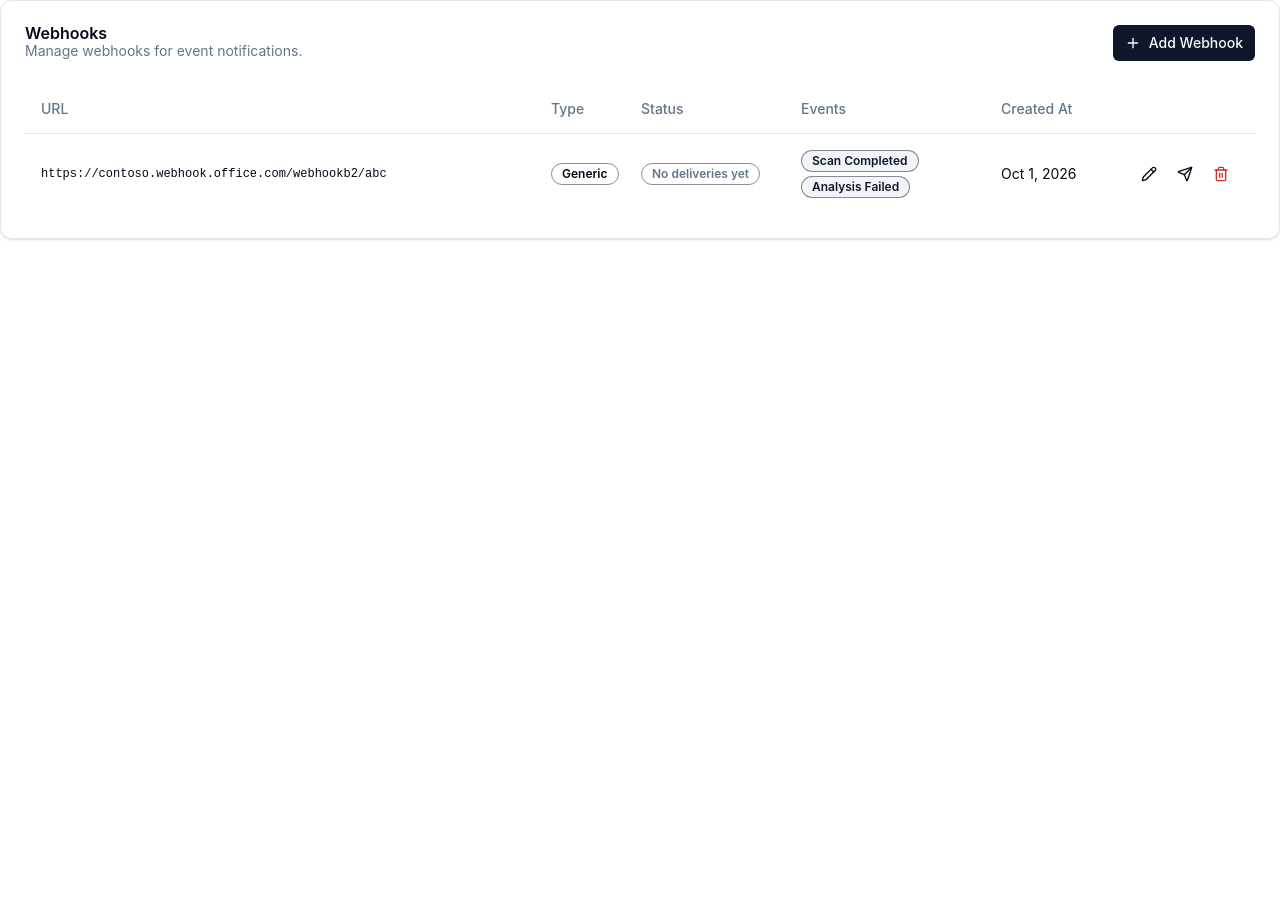
Test: WebhookManager › editing a webhook › shows the stored JSON opt-out of a Teams webhook ticked
Click the button named "Edit webhook".
click(1149, 174)  # box [1131,154,1167,194]
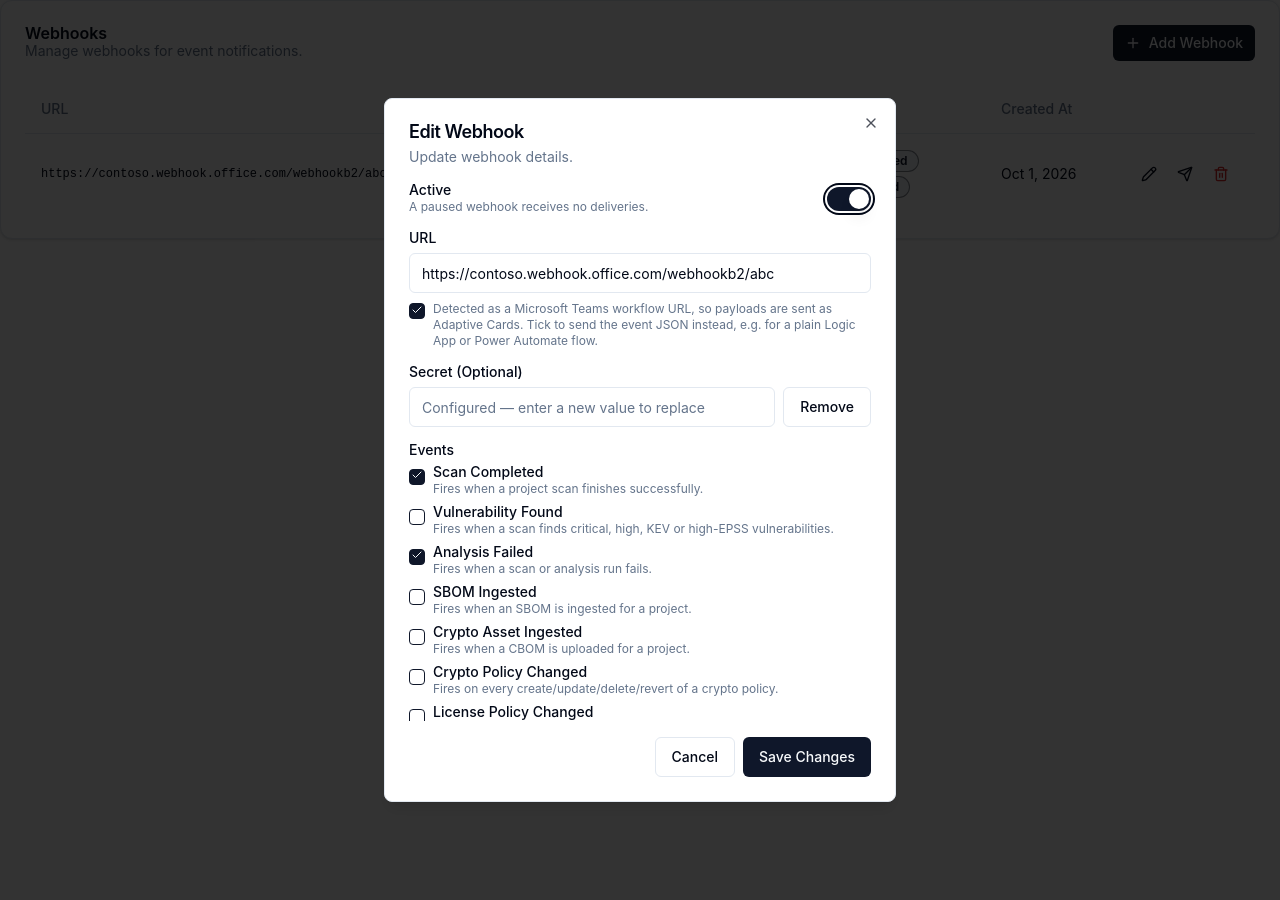
Expected: the checkbox named "send the event JSON instead" is checked, [409,303,425,319]
